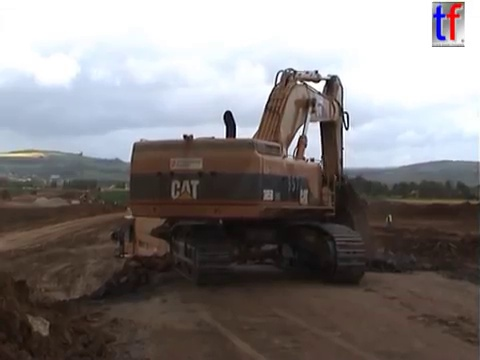excavator: (125, 65, 373, 286), (72, 187, 100, 207)
truck: (109, 207, 276, 291), (1, 185, 15, 204), (27, 187, 39, 197)
worker: (382, 209, 396, 232)
